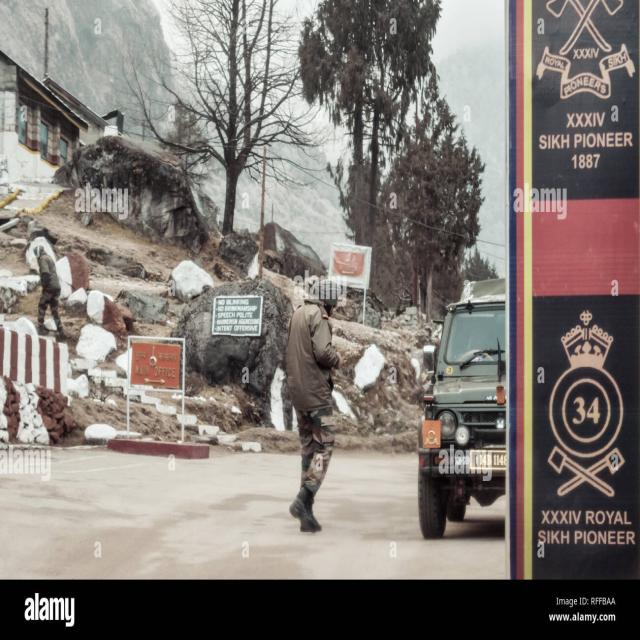military-plate: (469, 452, 509, 468)
